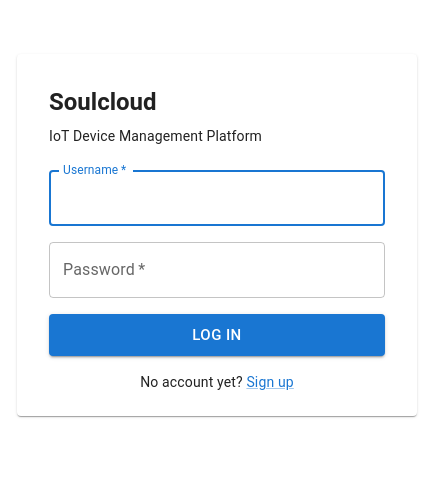
it: LoginPage › shows the server error message on failure
The image size is (435, 477).
Type "tester" into the field labelled "Username *" at (217, 198), box [49,170,385,226]
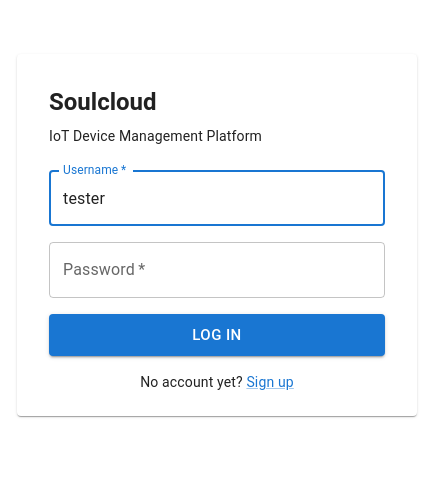
Type "wrong" into the password field labelled "Password *" at (217, 270), box [49,242,385,298]
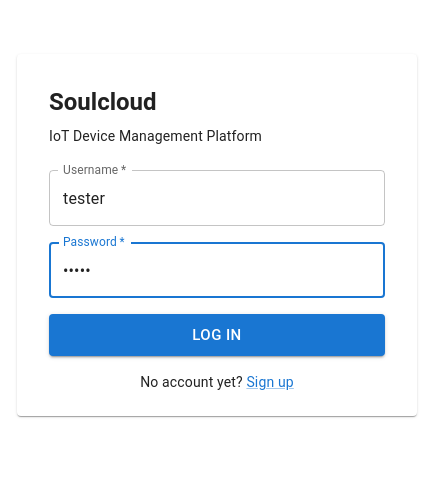
Click the button "Log in" at (217, 335), box [49,314,385,356]
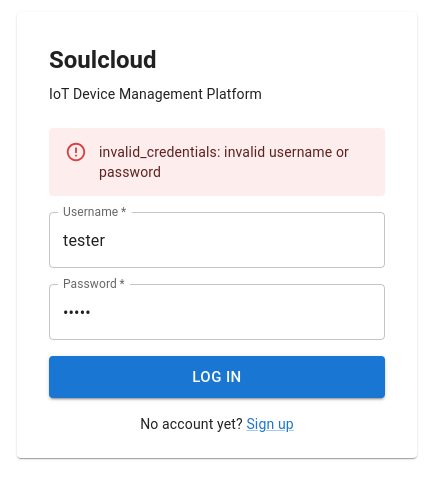
Check: the text "invalid_credentials: invalid username or password" is shown, box [99,134,369,190]
